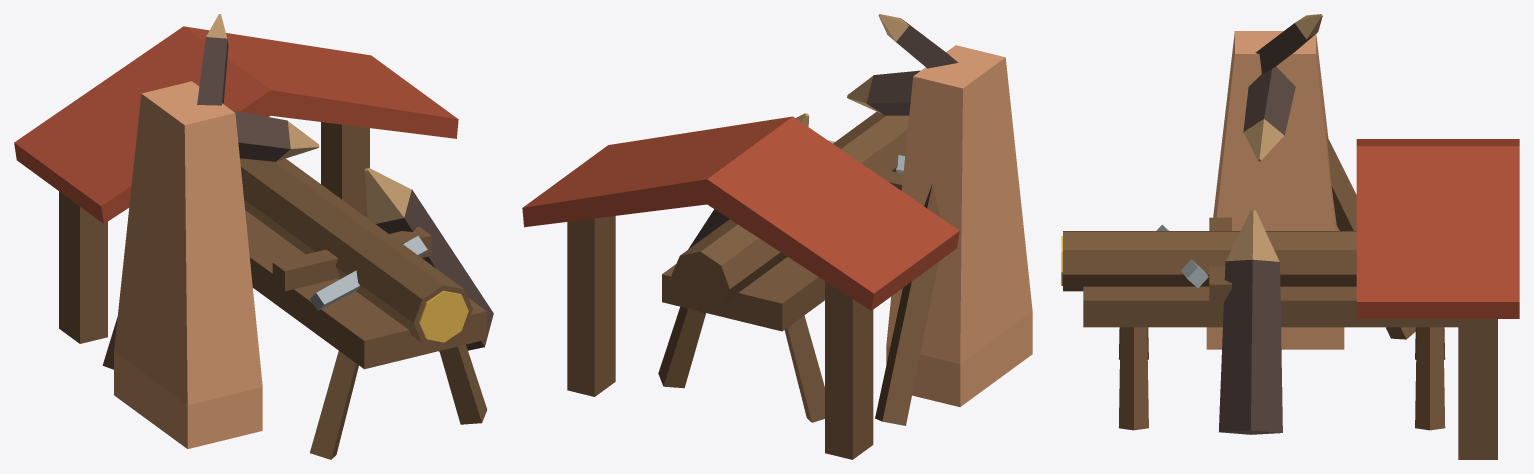
File: ns-pillaged-saw-hall.glb
3 views of the same model, side by side, from view 1: azimuth 30°, elevation 25°; view 2: azimuth 150°, elevation 25°; view 3: azimuth 270°, elevation 25° (orthographic). The views are drawn at different scales.
Parts seen in each view (by area): view 1: Work profile; view 2: Work profile; view 3: Work profile.
Part boxes in pixels (x1,y1,x2,y2): Work profile: (14, 14, 493, 459); Work profile: (522, 14, 1032, 459); Work profile: (1061, 14, 1519, 459).
Bounding box in the file's own units: 0.409 × 0.4093 × 0.486.
